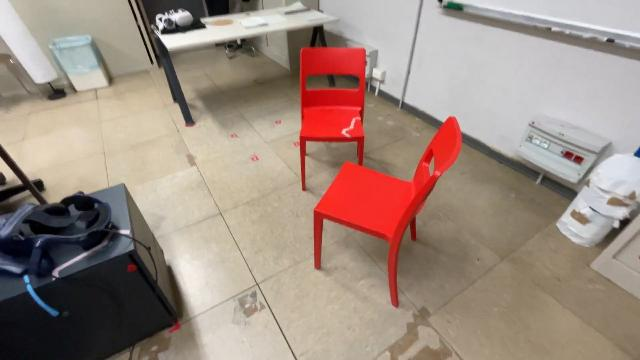Chair: (308, 112, 466, 312), (294, 43, 368, 195)
Lamp: (0, 0, 70, 102)
Stool: (0, 50, 36, 100)
